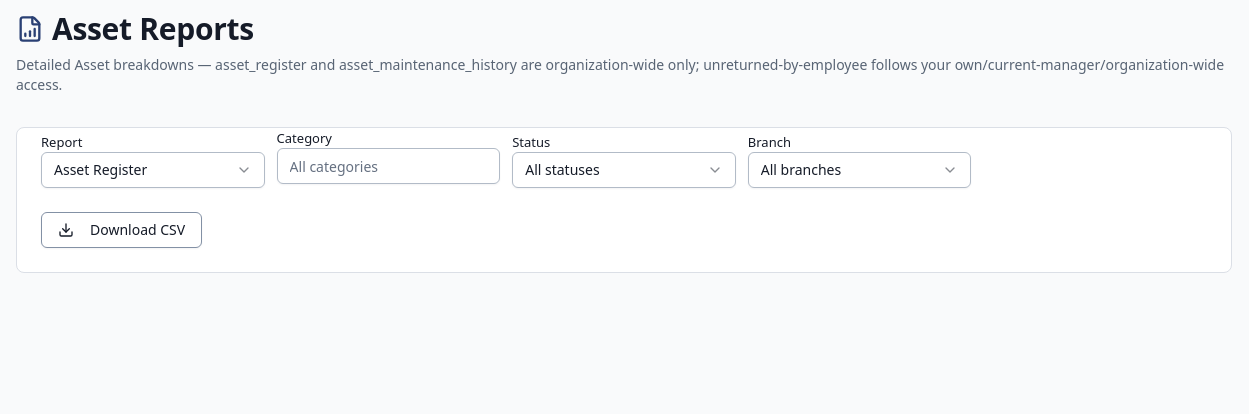
Test: Asset Reports page › per-report filter visibility (W93 precedent — never a no-op filter) › the status filter shows asset-status options for asset_register
Step 1. Click the dropdown with test id "select-asset-report-status" → click(624, 170), box [512,152,736,188]
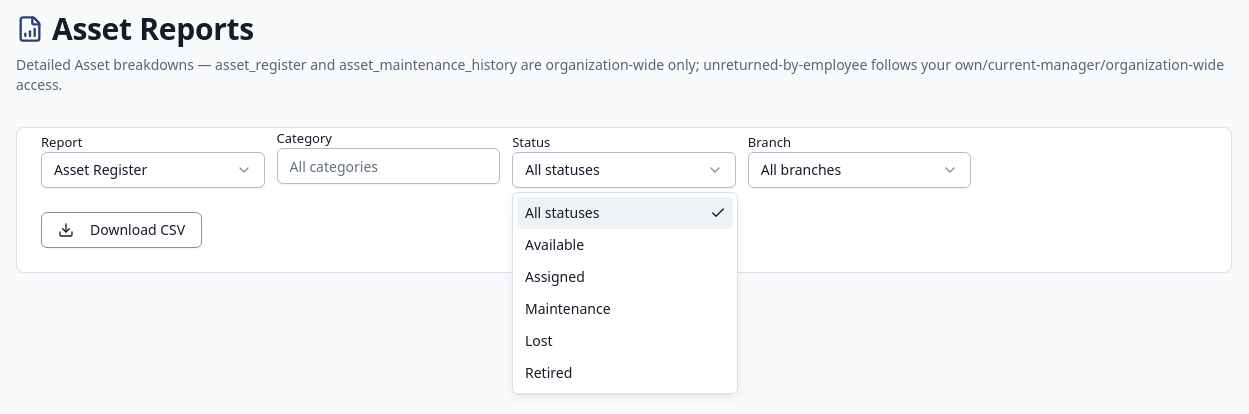
Check: the option "Retired" is shown, box [525,363,572,382]
